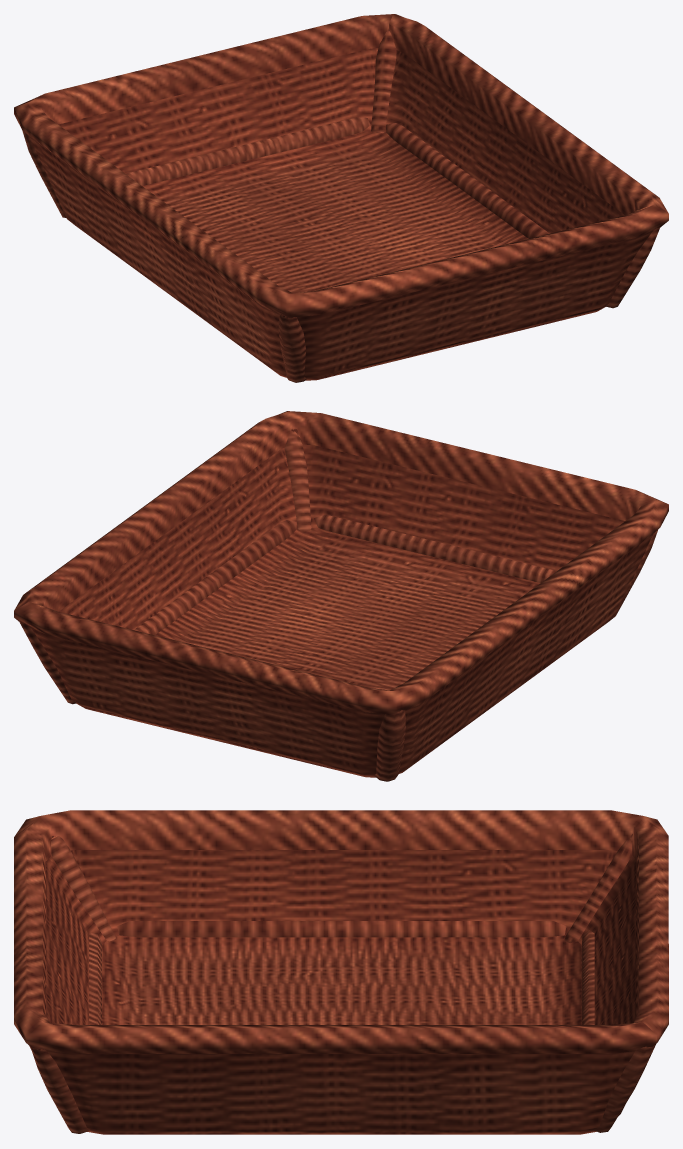
Rendered from Basket_Tray.fbx.
3 views of the same model, one above another, from view 1: azimuth 30°, elevation 25°; view 2: azimuth 150°, elevation 25°; view 3: azimuth 270°, elevation 25° (orthographic). The views are drawn at different scales.
Parts seen in each view (by area): view 1: Basket_Tray; view 2: Basket_Tray; view 3: Basket_Tray.
Part boxes in pixels (box(x1,y1,x2,y2)): Basket_Tray: box(14, 14, 668, 382); Basket_Tray: box(14, 411, 668, 781); Basket_Tray: box(14, 810, 668, 1134).
Size of the model in its own units: 108 by 27.47 by 132.
